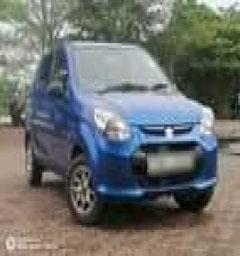car: (22, 30, 231, 229)
